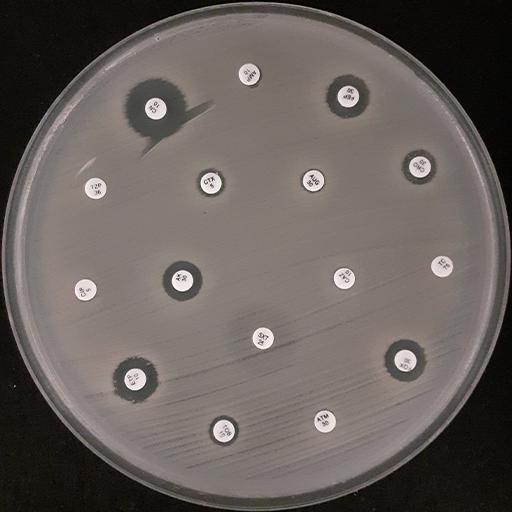disc: (212, 420, 236, 443), (238, 63, 261, 86), (337, 85, 360, 108), (84, 177, 107, 200), (431, 255, 454, 278), (333, 267, 356, 290), (251, 327, 274, 350), (394, 349, 417, 372), (123, 368, 146, 391), (170, 270, 194, 292), (144, 98, 167, 120), (409, 156, 432, 178), (302, 170, 325, 192), (200, 172, 222, 195), (74, 279, 97, 301), (314, 410, 336, 433)
